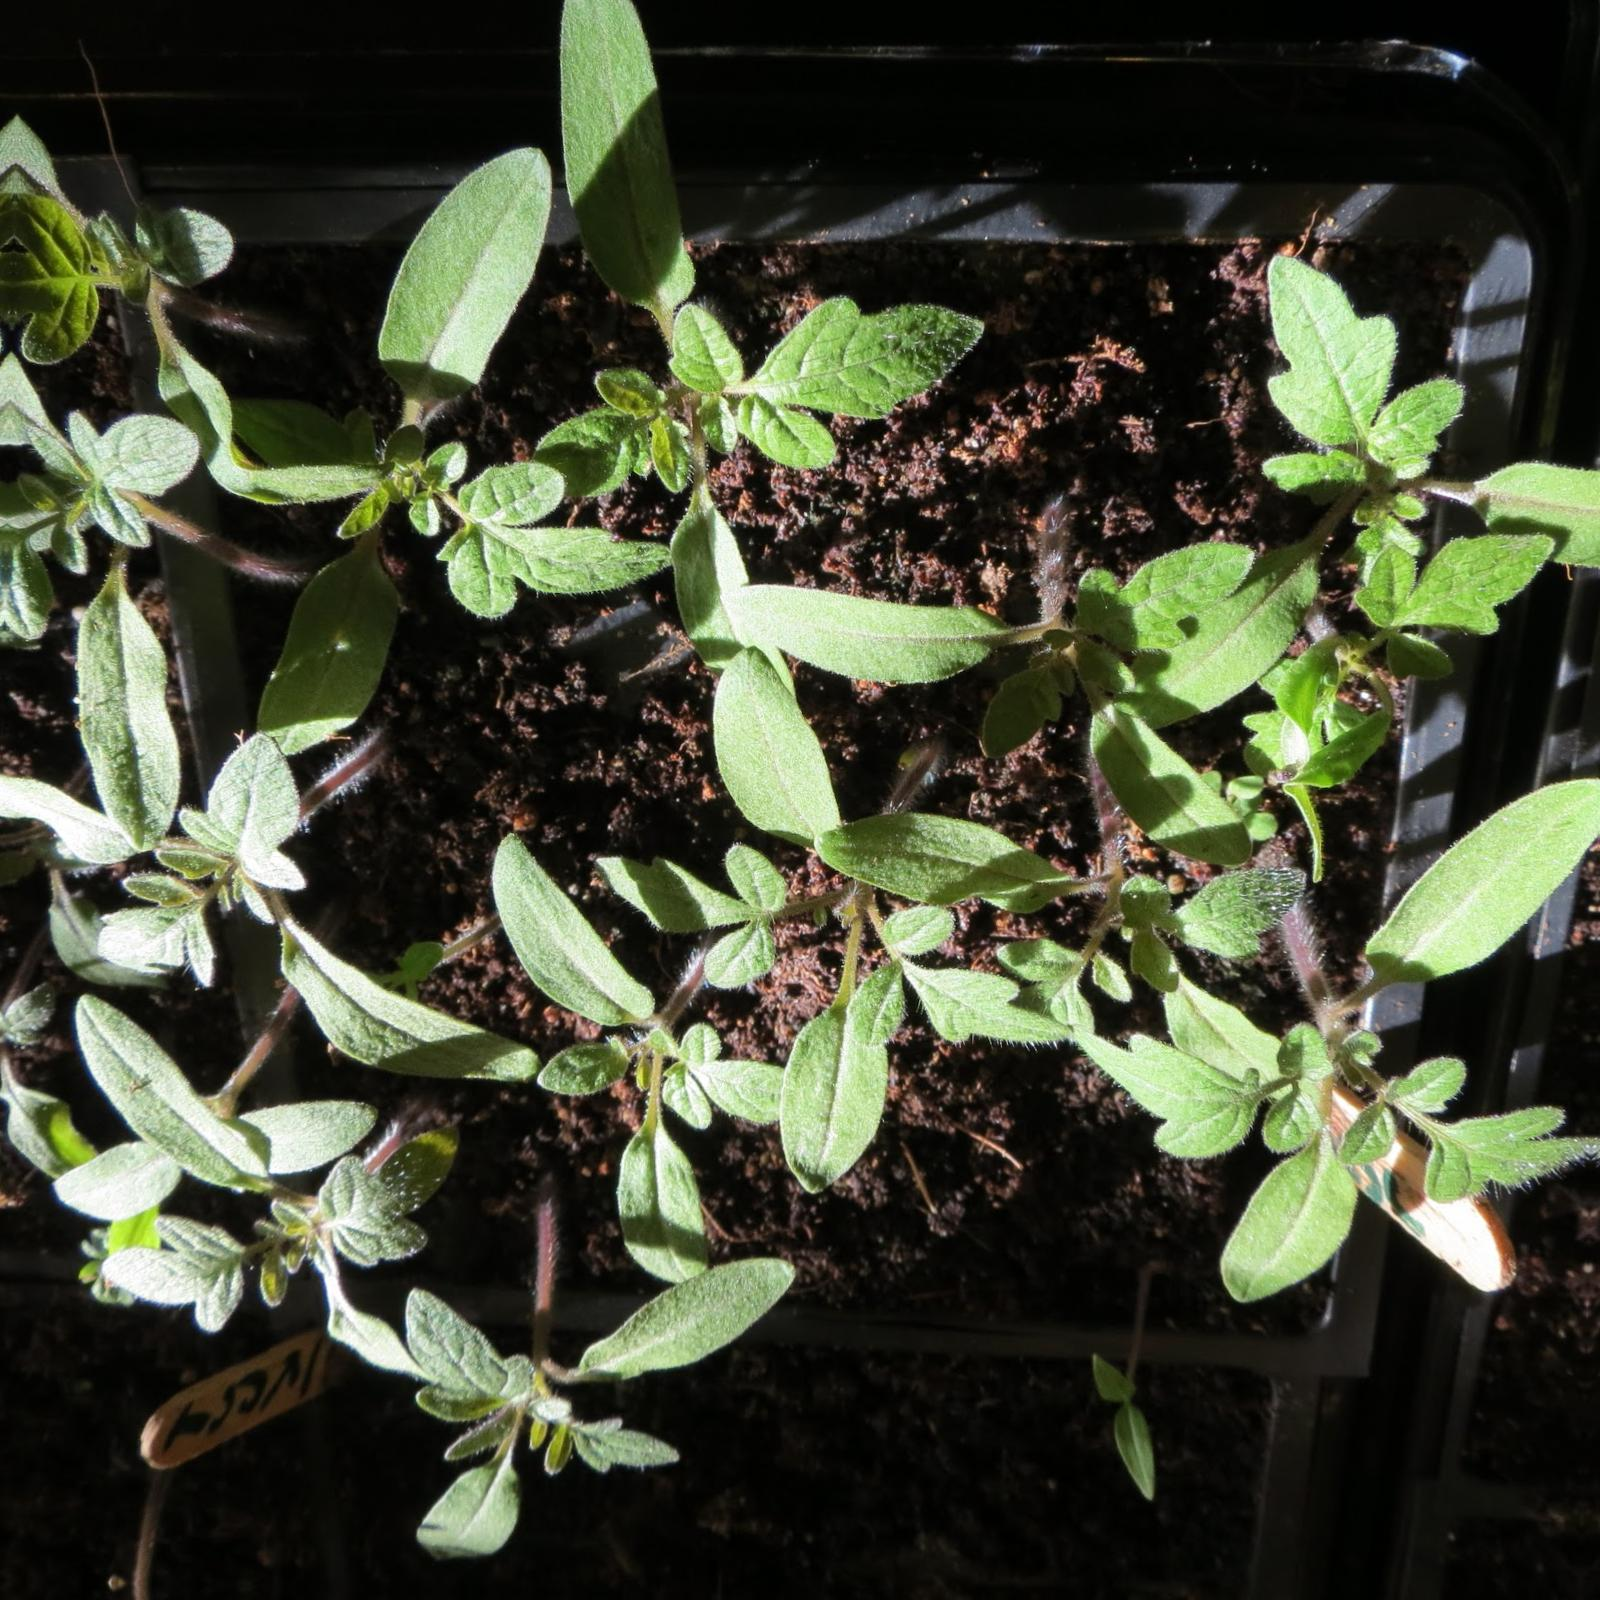Tomato leaf: (1225, 233, 1467, 508), (366, 129, 558, 444), (533, 0, 718, 315), (1379, 749, 1600, 1008), (56, 988, 303, 1213), (37, 522, 193, 878), (240, 475, 421, 772), (481, 818, 680, 1064), (409, 451, 677, 633), (261, 929, 558, 1086), (541, 1238, 801, 1402), (759, 253, 998, 426), (1330, 1062, 1582, 1212), (703, 645, 863, 869), (715, 571, 1007, 692), (1078, 665, 1257, 860), (1216, 1105, 1367, 1333), (1058, 1008, 1267, 1162), (775, 973, 898, 1222), (598, 1083, 733, 1291), (415, 1386, 554, 1571), (403, 1267, 541, 1429), (1371, 541, 1543, 653)
